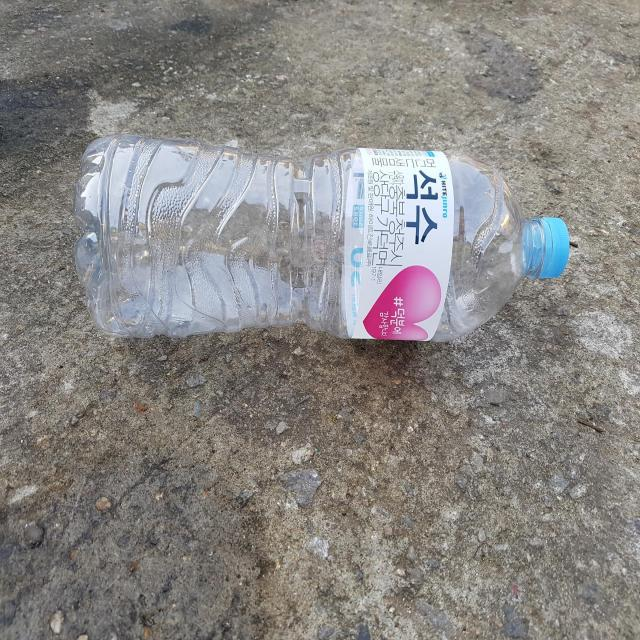plastic: (73, 135, 571, 341)
